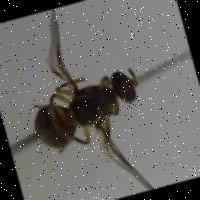Oriental-fruit-fly: (3, 0, 178, 200)
